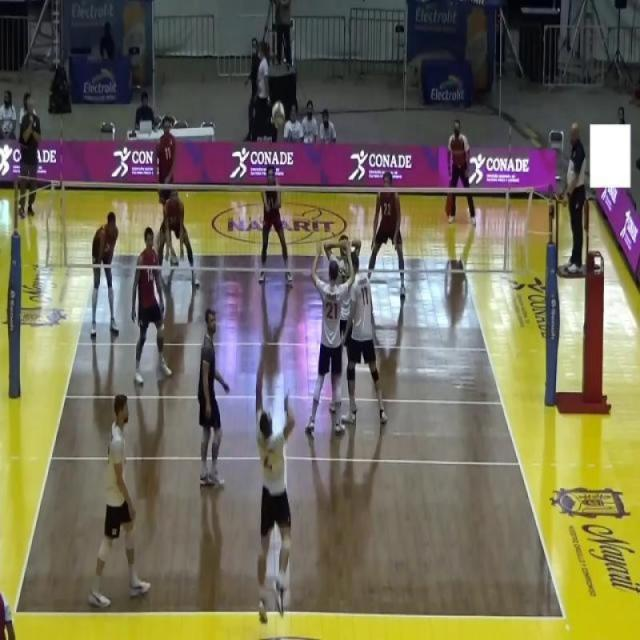volleyball: (271, 100, 286, 130)
